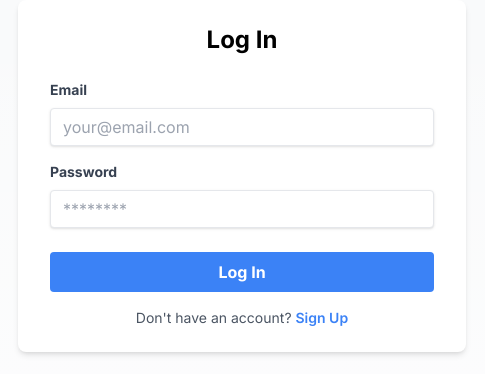
Test case: AuthForm Component › shows loading state during submission
Type "test@example.com" into the field labelled "Email". click: [242, 127]
box: top-left (50, 108), bottom-right (434, 146)
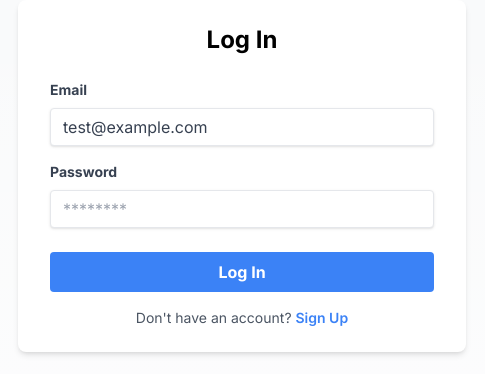
Type "SecurePassword123" into the password field labelled "Password". click: [242, 209]
box: top-left (50, 190), bottom-right (434, 228)
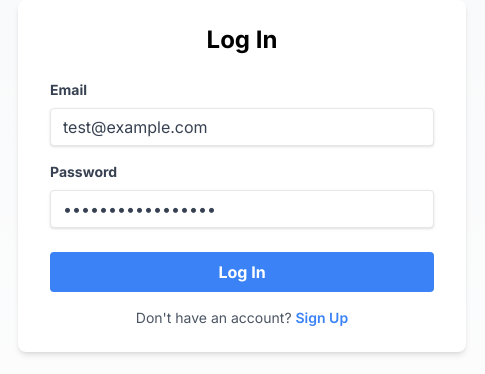
Click the button "Log In". click: [242, 272]
box: top-left (50, 252), bottom-right (434, 292)
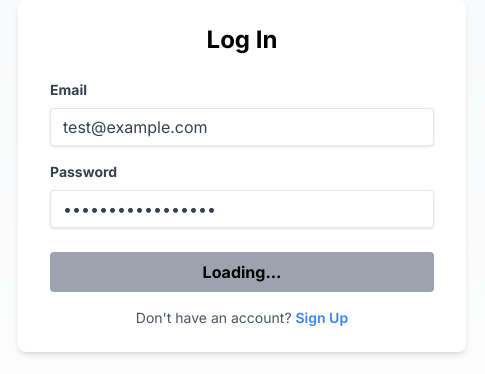
Expected: the button named "log in" is disabled, top-left (50, 252), bottom-right (434, 292)
